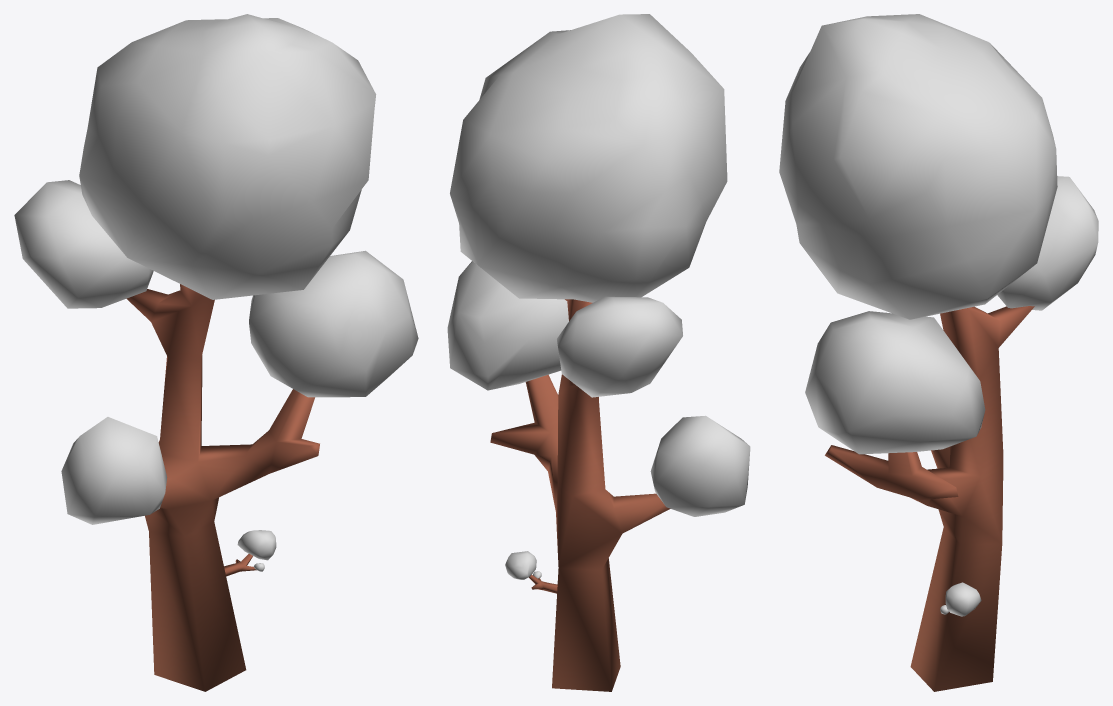
Rendered from tree_standardv2.fbx.
3 views of the same model, side by side, from view 1: azimuth 30°, elevation 25°; view 2: azimuth 150°, elevation 25°; view 3: azimuth 270°, elevation 25° (orthographic). The views are drawn at different scales.
Visible parts, largest first — view 1: Tree1; view 2: Tree1; view 3: Tree1.
Boxes of the visible parts, x1=… form: Tree1: x1=14, y1=14, x2=418, y2=691; Tree1: x1=447, y1=14, x2=750, y2=691; Tree1: x1=779, y1=14, x2=1098, y2=691.
Bounding box in the file's own units: 1052 × 2142 × 940.
